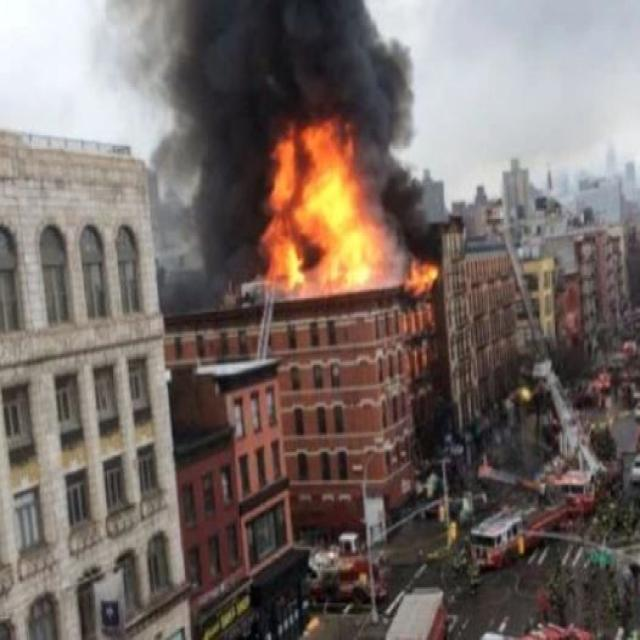Fire: (266, 139, 408, 289)
Smoke: (161, 17, 446, 286)
